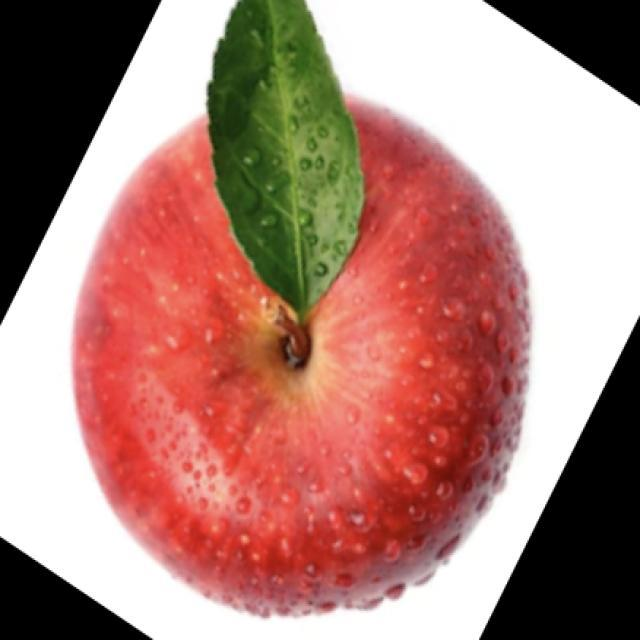Fresh Apple: (73, 82, 527, 624)
